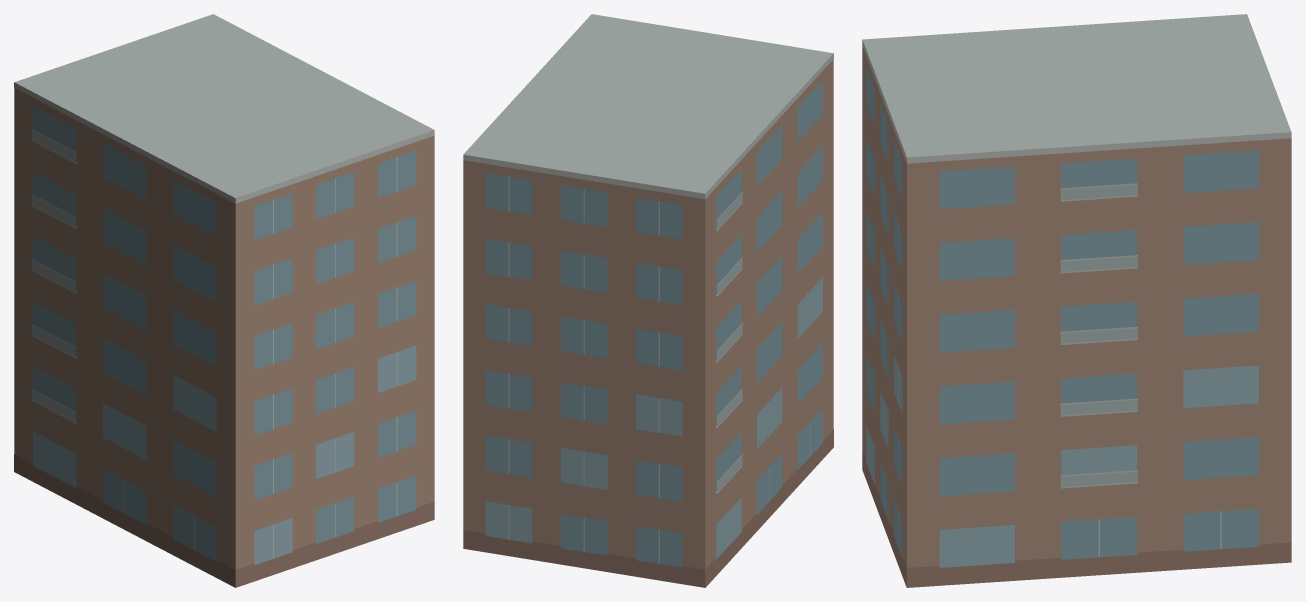
The model's file is survey-upis-32974617.glb.
The picture shows the model from 3 angles, left to right: view 1: azimuth 30°, elevation 25°; view 2: azimuth 150°, elevation 25°; view 3: azimuth 270°, elevation 25°; orthographic projection. The views are drawn at different scales.
Parts seen in each view (by area): view 1: survey-upis-32974617.tmp; view 2: survey-upis-32974617.tmp; view 3: survey-upis-32974617.tmp.
Boxes of the visible parts, x1,y1,x2,y2 form: survey-upis-32974617.tmp: (14, 14, 434, 587); survey-upis-32974617.tmp: (463, 14, 833, 587); survey-upis-32974617.tmp: (862, 14, 1291, 587).
Size of the model in its own units: 12.39 by 17.3 by 15.65.
